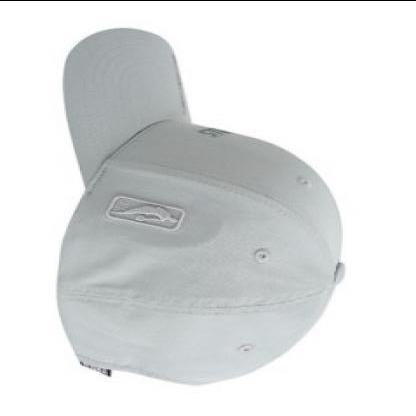cap: (43, 16, 362, 399)
